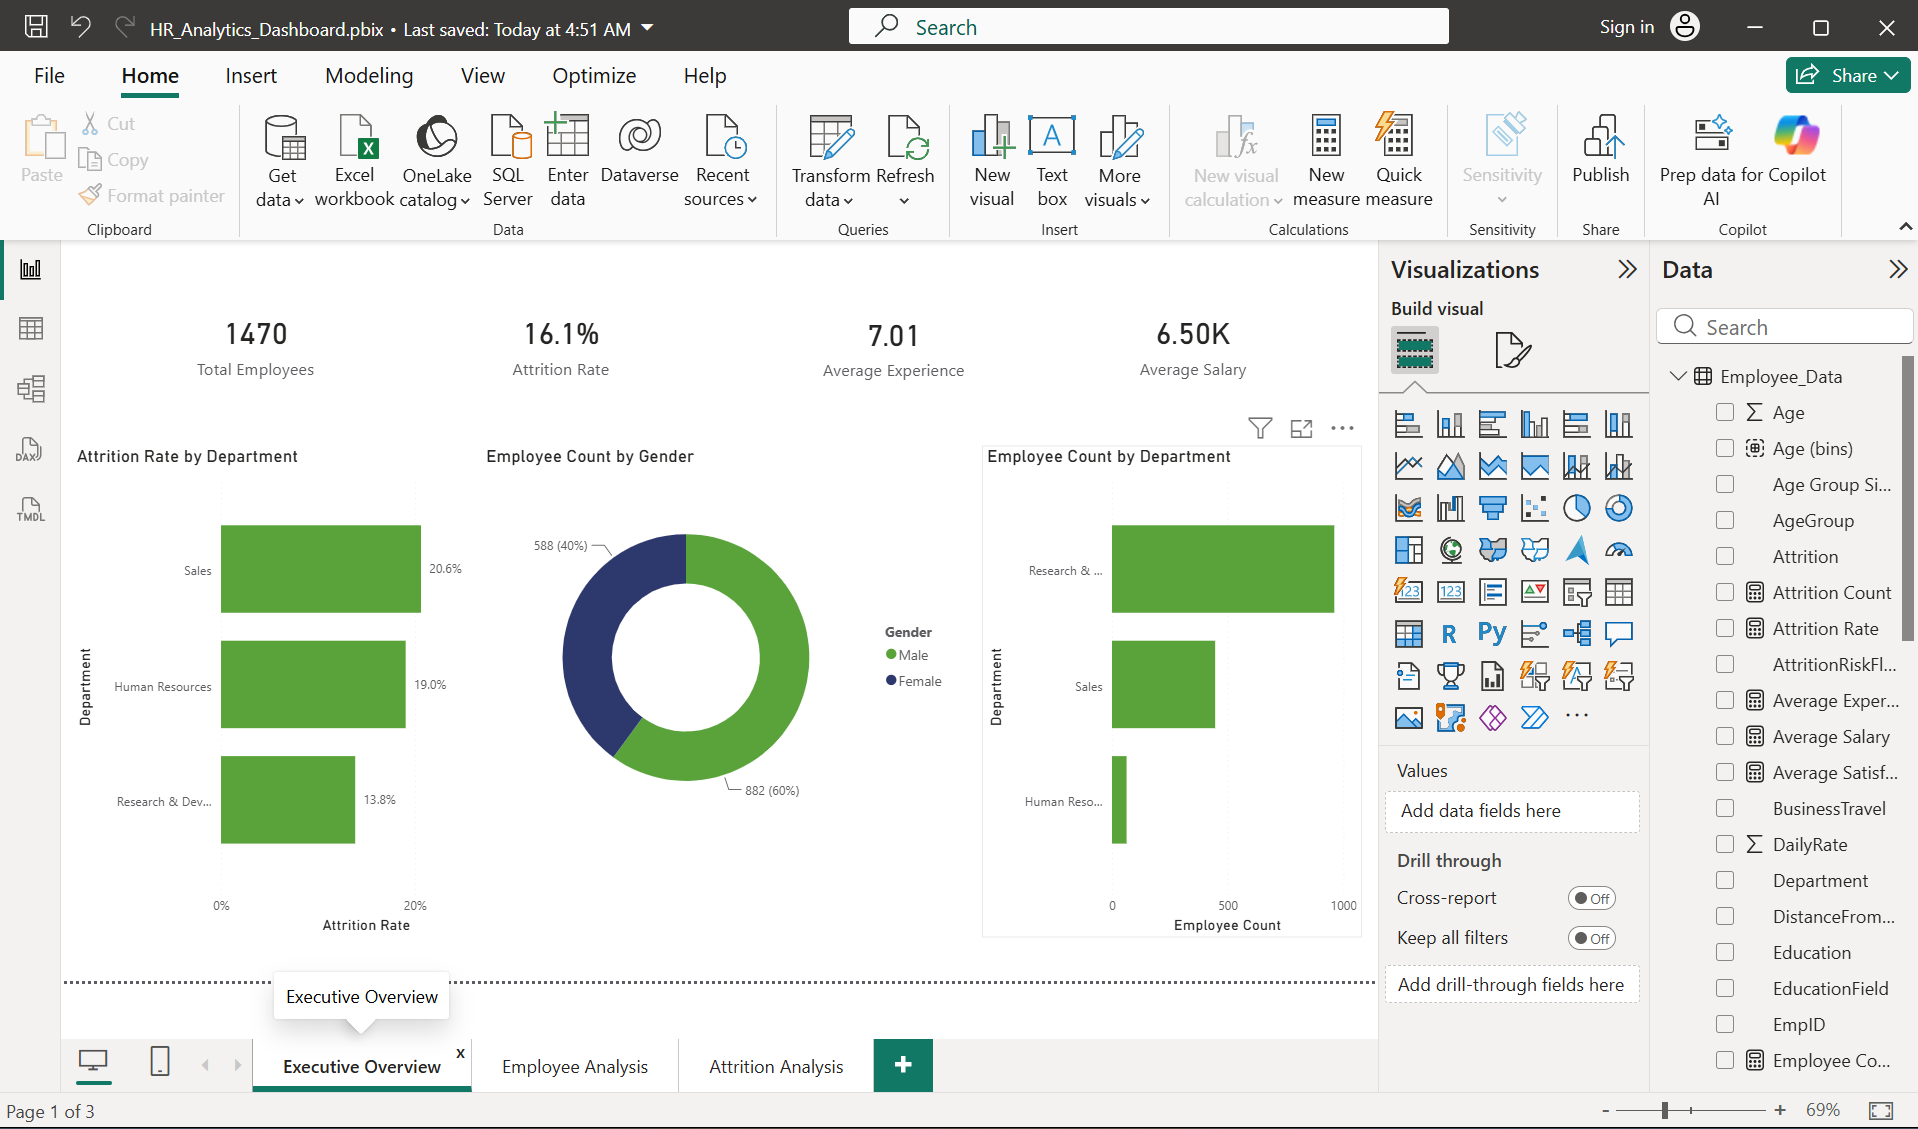

This screenshot's page, from the dashboard's own definition file:
{"tool":"powerbi","page":{"name":" Executive Overview","canvas":[1280,720],"ordinal":0},"visuals":[{"type":"card","fields":{"Values":["Employee_Data.Total Employees"]},"box":[0,0,377.6,199.7],"z":0},{"type":"card","fields":{"Values":["Employee_Data.Attrition Rate"]},"box":[345.5,0,279.9,199.7],"z":2},{"type":"card","fields":{"Values":["Employee_Data.Average Salary"]},"box":[919.9,0,360.1,199.7],"z":3},{"type":"card","fields":{"Values":["Employee_Data.Average Experience"]},"box":[669.2,1.5,279.9,199.7],"z":4},{"type":"clusteredBarChart","fields":{"Category":["Employee_Data.Department"],"Y":["Employee_Data.Employee Count"]},"box":[895.1,199.7,368.8,478.2],"z":7},{"type":"clusteredBarChart","fields":{"Category":["Employee_Data.Department"],"Y":["Employee_Data.Attrition Rate"]},"box":[10.2,199.7,444.6,478.2],"z":8},{"type":"donutChart","fields":{"Category":["Employee_Data.Gender"],"Y":["Employee_Data.Employee Count"]},"box":[408.2,199.7,463.6,392.2],"z":9}]}

Visuals, with their boxes on the page's 1280x720 design canvas (x1, y1, x2, y2). These are canvas units, not pixel positions in the 1918x1129 screenshot, which may show the page scaled, cropped or inside an application window:
card - Employee_Data.Total Employees: 0:0:378:200
card - Employee_Data.Attrition Rate: 346:0:625:200
card - Employee_Data.Average Salary: 920:0:1280:200
card - Employee_Data.Average Experience: 669:2:949:201
clusteredBarChart - Employee_Data.Department x Employee_Data.Employee Count: 895:200:1264:678
clusteredBarChart - Employee_Data.Department x Employee_Data.Attrition Rate: 10:200:455:678
donutChart - Employee_Data.Gender x Employee_Data.Employee Count: 408:200:872:592
